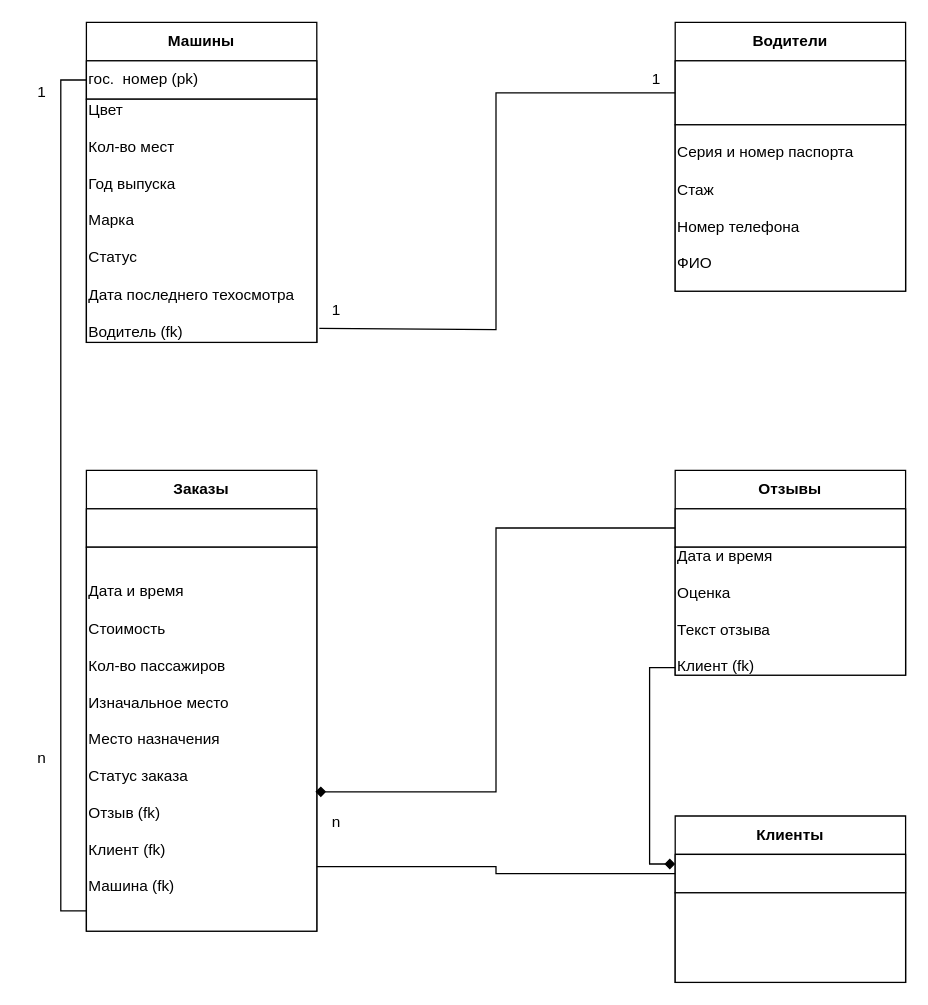
Some shapes in this 928 by 1005 pixel diagram are drawn without their labels. Here are the shapes that lost their labels. From the top down, the centre of each, then its label:
(790,92): Номер водительского удостоверения (pk)
(201,527): ID Заказа (pk)
(790,527): ID отзыва (pk)
(790,873): ID Клиента (pk)
(790,937): Номер телефона ФИО
